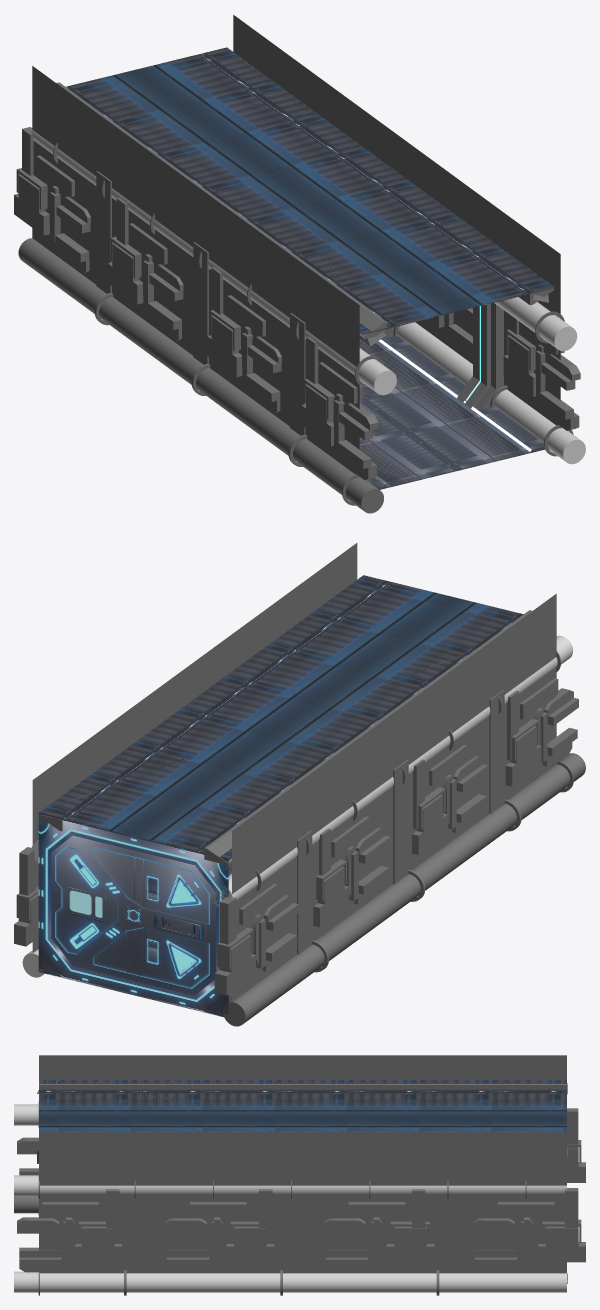
The model's file is scifi_tunnel_3d.glb.
The picture shows the model from 3 angles, top to bottom: view 1: azimuth 30°, elevation 25°; view 2: azimuth 150°, elevation 25°; view 3: azimuth 270°, elevation 25°; orthographic projection. The views are drawn at different scales.
Visible parts, largest first — view 1: Object002_Material #43_0, Object003_03 - Default_0, Object004_03 - Default_0, Object001_01 - Default_0, Cylinder004, Cylinder003, Cylinder002, Rectangle001_01 - Default_0, Box022, Cylinder001, Rectangle006_03 - Default_0, Box031 (+12 smaller); view 2: Object002_Material #43_0, Object003_03 - Default_0, Box001_Material #2121232574_0, Object004_03 - Default_0, Cylinder004, Cylinder002, Box031, Box034, Box035, Rectangle006_03 - Default_0, Rectangle011, Rectangle024 (+11 smaller); view 3: Object004_03 - Default_0, Object002_Material #43_0, Object003_03 - Default_0, Cylinder003, Cylinder001, Rectangle006_03 - Default_0, Rectangle028, Rectangle030, Rectangle032, Rectangle026, Box092, Box107 (+26 smaller).
Boxes of the visible parts, x1,y1,x2,y2 form: Object002_Material #43_0: (66,47,554,334); Object003_03 - Default_0: (32,66,359,474); Object004_03 - Default_0: (233,15,560,425); Object001_01 - Default_0: (359,339,548,489); Cylinder004: (18,238,383,513); Cylinder003: (397,322,585,464); Cylinder002: (31,130,396,395); Rectangle001_01 - Default_0: (381,336,548,451); Box022: (457,303,490,408); Cylinder001: (494,297,577,351); Rectangle006_03 - Default_0: (56,82,386,339); Box031: (193,242,208,364); Object002_Material #43_0: (39,575,523,860); Object003_03 - Default_0: (232,593,556,1001); Box001_Material #2121232574_0: (38,813,228,1018); Object004_03 - Default_0: (32,543,357,952); Cylinder004: (223,753,585,1026); Cylinder002: (210,635,573,907); Box031: (393,760,408,884); Box034: (297,830,312,954); Box035: (489,689,504,813); Rectangle006_03 - Default_0: (204,610,531,865); Rectangle011: (214,935,255,995); Rectangle024: (505,726,541,786); Object004_03 - Default_0: (39,1132,566,1273); Object002_Material #43_0: (39,1080,566,1132); Object003_03 - Default_0: (39,1055,566,1079); Cylinder003: (14,1271,566,1292); Cylinder001: (14,1175,566,1196); Rectangle006_03 - Default_0: (39,1083,567,1094); Rectangle028: (538,1226,585,1262); Rectangle030: (226,1226,274,1262); Rectangle032: (74,1226,121,1262); Rectangle026: (387,1226,434,1262); Box092: (348,1202,405,1216); Box107: (42,1202,98,1216).
Size of the model in its own units: 5.51 by 4.6 by 14.66.
8 materials, 4 textured.
